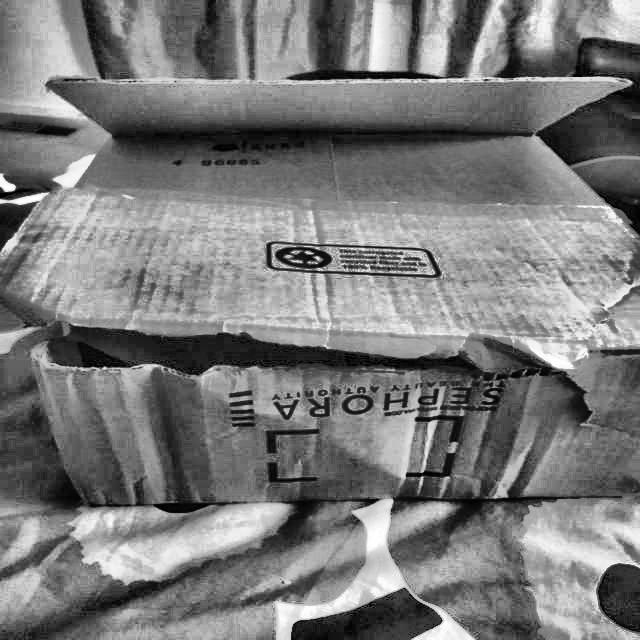box: (0, 79, 639, 513)
hole: (21, 290, 634, 430)
